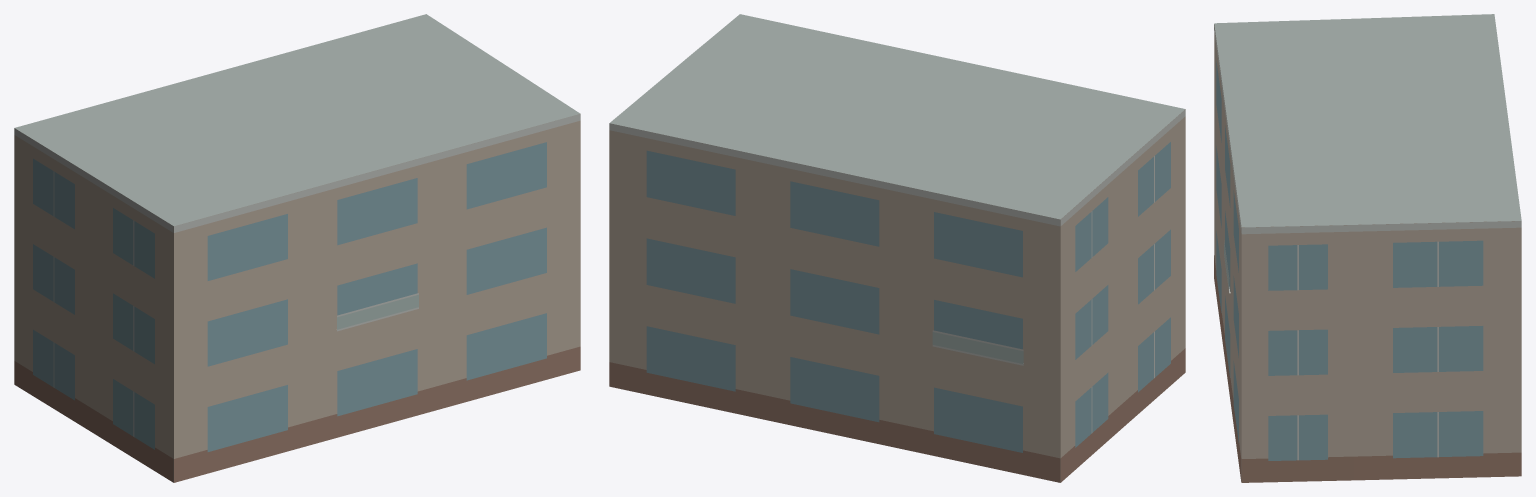
File: survey-upis-32583940.glb
3 renders of one model, left to right at view 1: azimuth 30°, elevation 25°; view 2: azimuth 150°, elevation 25°; view 3: azimuth 270°, elevation 25°, orthographic. The views are drawn at different scales.
Parts seen in each view (by area): view 1: survey-upis-32583940.tmp; view 2: survey-upis-32583940.tmp; view 3: survey-upis-32583940.tmp.
Part boxes in pixels (x1,y1,x2,y2): survey-upis-32583940.tmp: [14, 14, 580, 482]; survey-upis-32583940.tmp: [609, 14, 1185, 482]; survey-upis-32583940.tmp: [1214, 14, 1521, 482].
Bounding box in the file's own units: 16.41 × 9.15 × 9.99.
